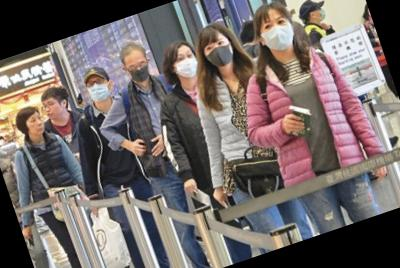with_mask: (258, 12, 300, 56), (201, 35, 238, 72), (170, 47, 202, 83), (84, 75, 113, 105), (125, 59, 155, 87), (312, 4, 329, 22)
without_mask: (25, 113, 49, 139), (41, 99, 62, 123)
